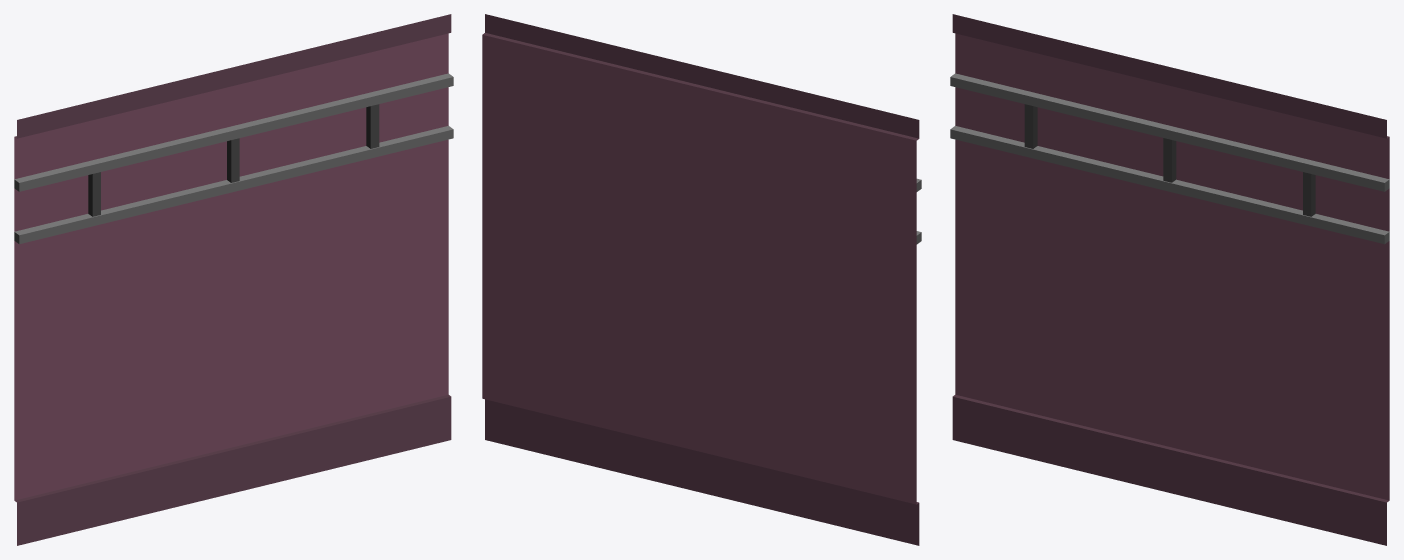
Rendered from AI_Env_Wall_Pink_Electronics_Straight.fbx.
3 renders of one model, left to right at view 1: azimuth 30°, elevation 25°; view 2: azimuth 150°, elevation 25°; view 3: azimuth 330°, elevation 25°, orthographic.
Parts seen in each view (by area): view 1: AI_Env_Wall_Pink_Electronics_Straight; view 2: AI_Env_Wall_Pink_Electronics_Straight; view 3: AI_Env_Wall_Pink_Electronics_Straight.
Part boxes in pixels (x1,y1,x2,y2): AI_Env_Wall_Pink_Electronics_Straight: [14, 14, 453, 545]; AI_Env_Wall_Pink_Electronics_Straight: [482, 14, 921, 545]; AI_Env_Wall_Pink_Electronics_Straight: [950, 14, 1389, 545].
Size of the model in its own units: 5 by 4.69 by 0.0984.
